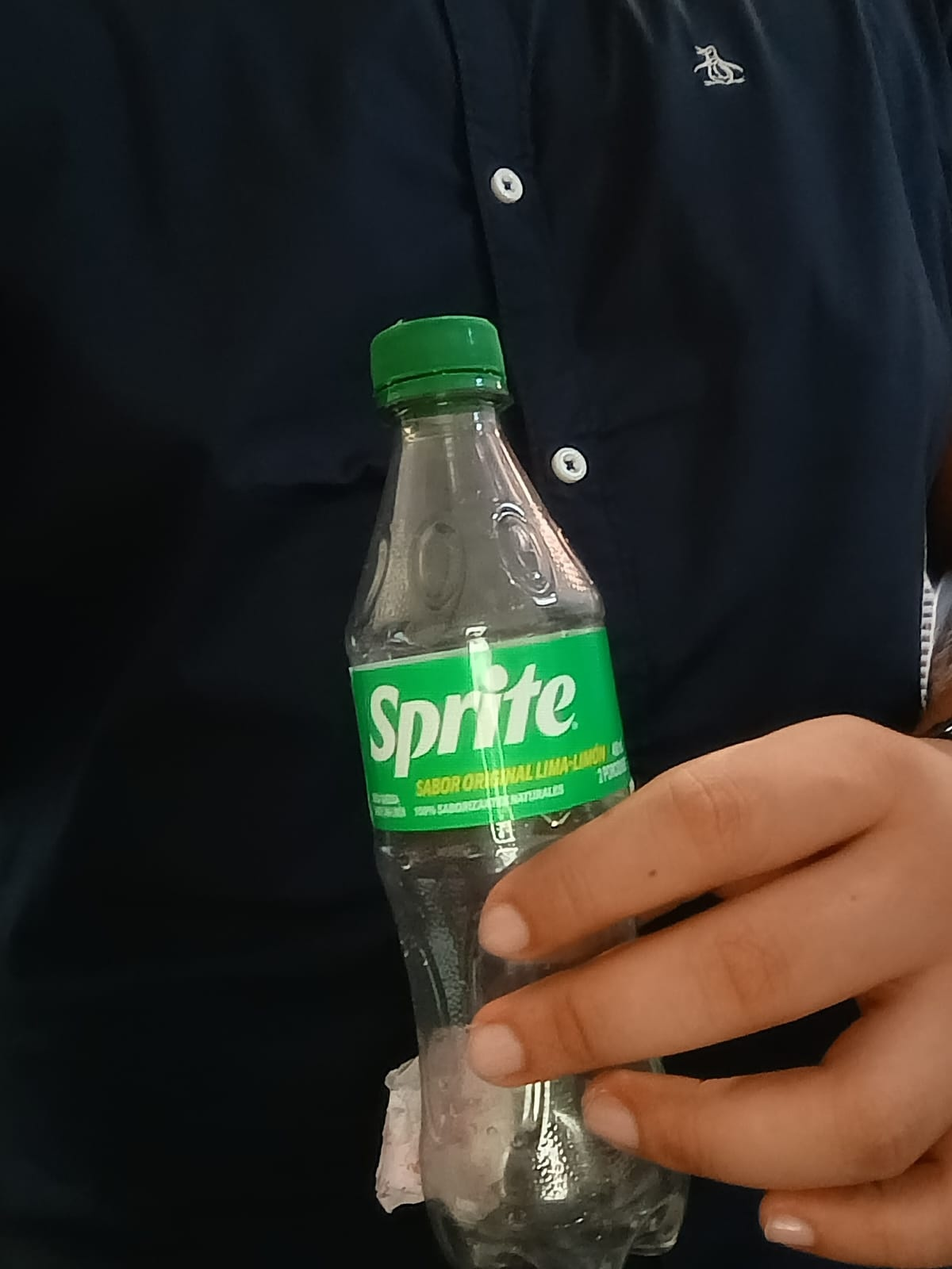Plastico: (349, 315, 687, 1269)
